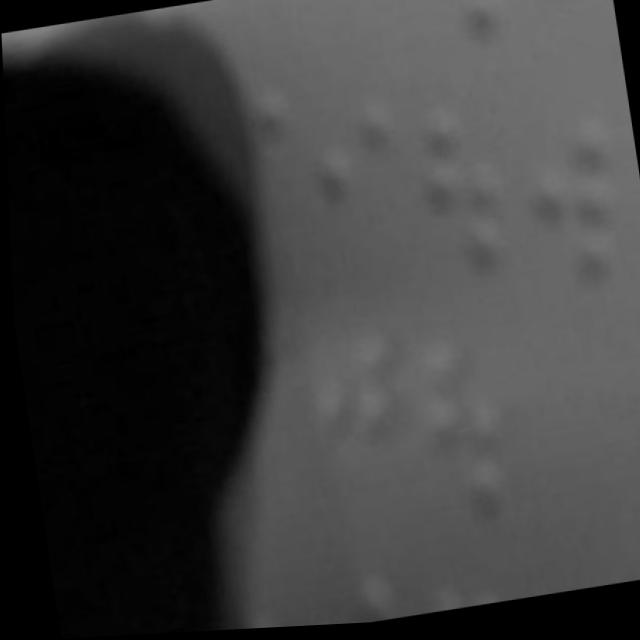braiile: (397, 327, 510, 528), (514, 111, 625, 307), (296, 329, 408, 517), (401, 104, 506, 298), (297, 95, 402, 273), (523, 0, 619, 66), (411, 0, 515, 60), (323, 0, 414, 41), (627, 364, 640, 551)
